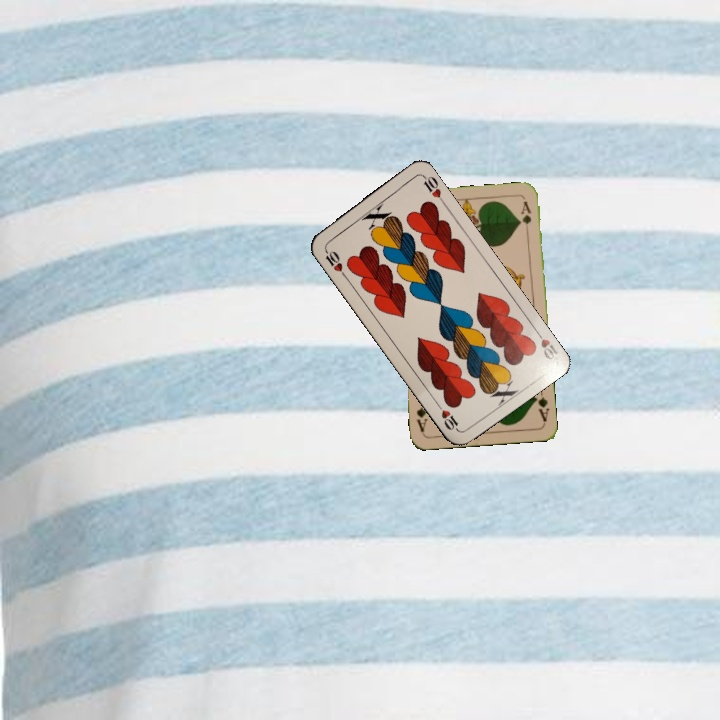GA: (531, 384, 552, 424)
H10: (531, 325, 561, 365), (320, 244, 349, 280)
